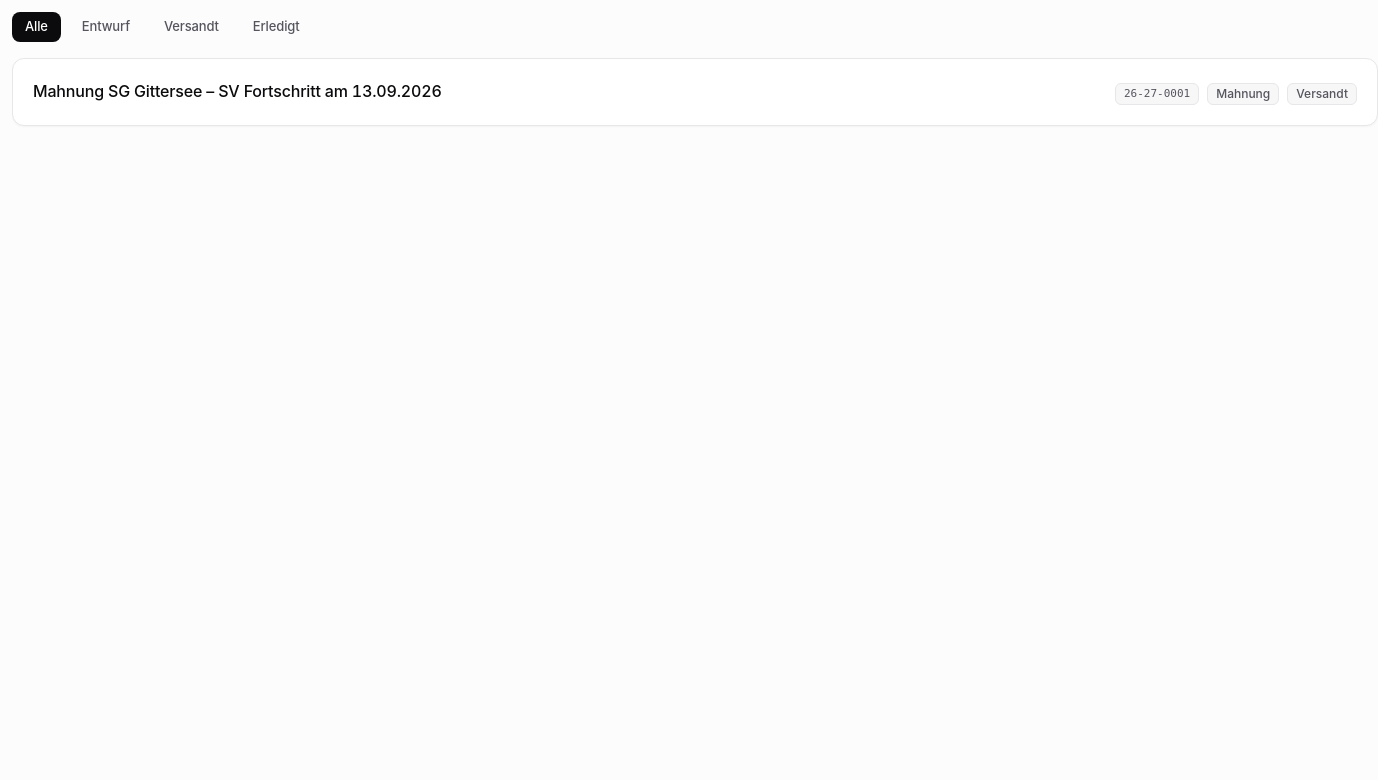
Test: Ein Vorgang › nennt den Versandtag, sobald einer feststeht
What coordinates should you click on to do the following:
click the 5th button
I would click on:
 (237, 91)
Its box is left=33, top=79, right=1357, bottom=105.
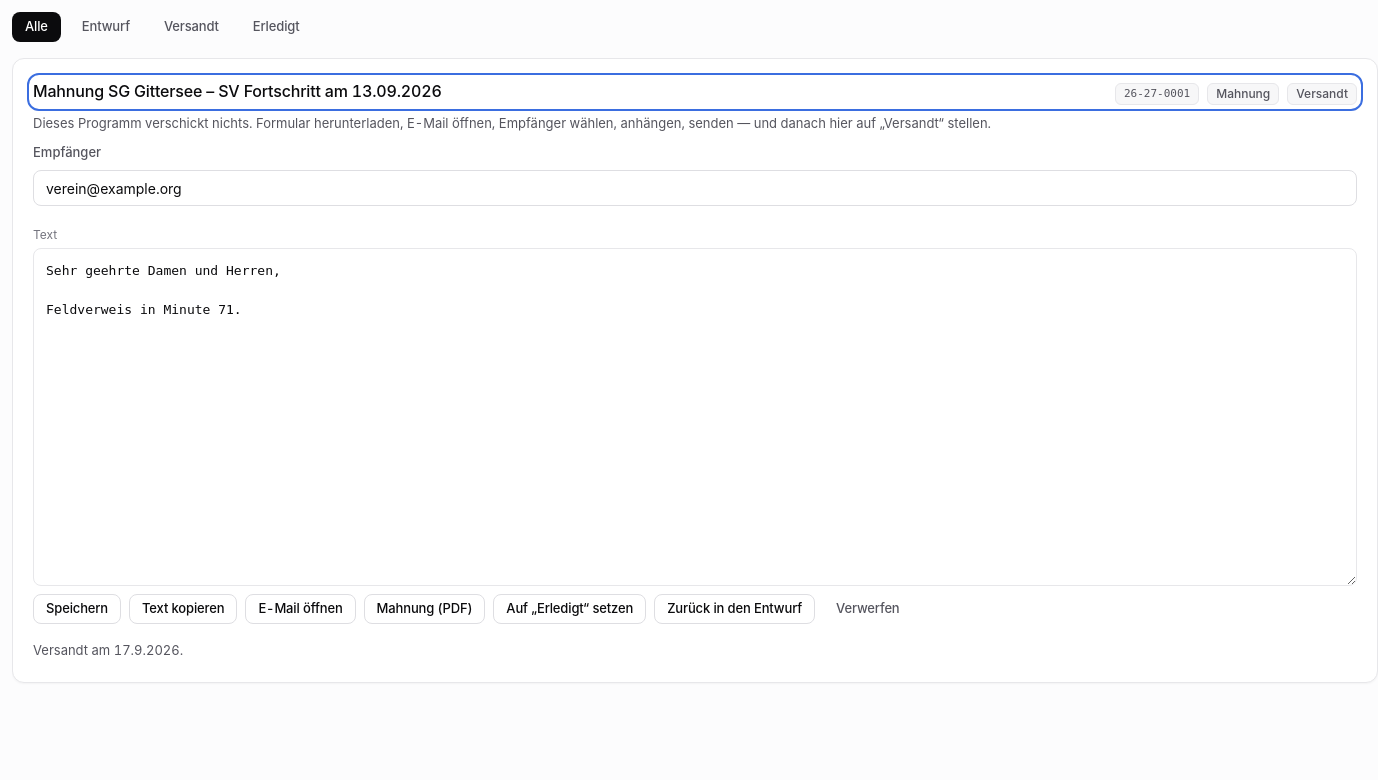
Check: the text "Versandt am 17.9.2026." is shown, box left=33, top=642, right=183, bottom=658
